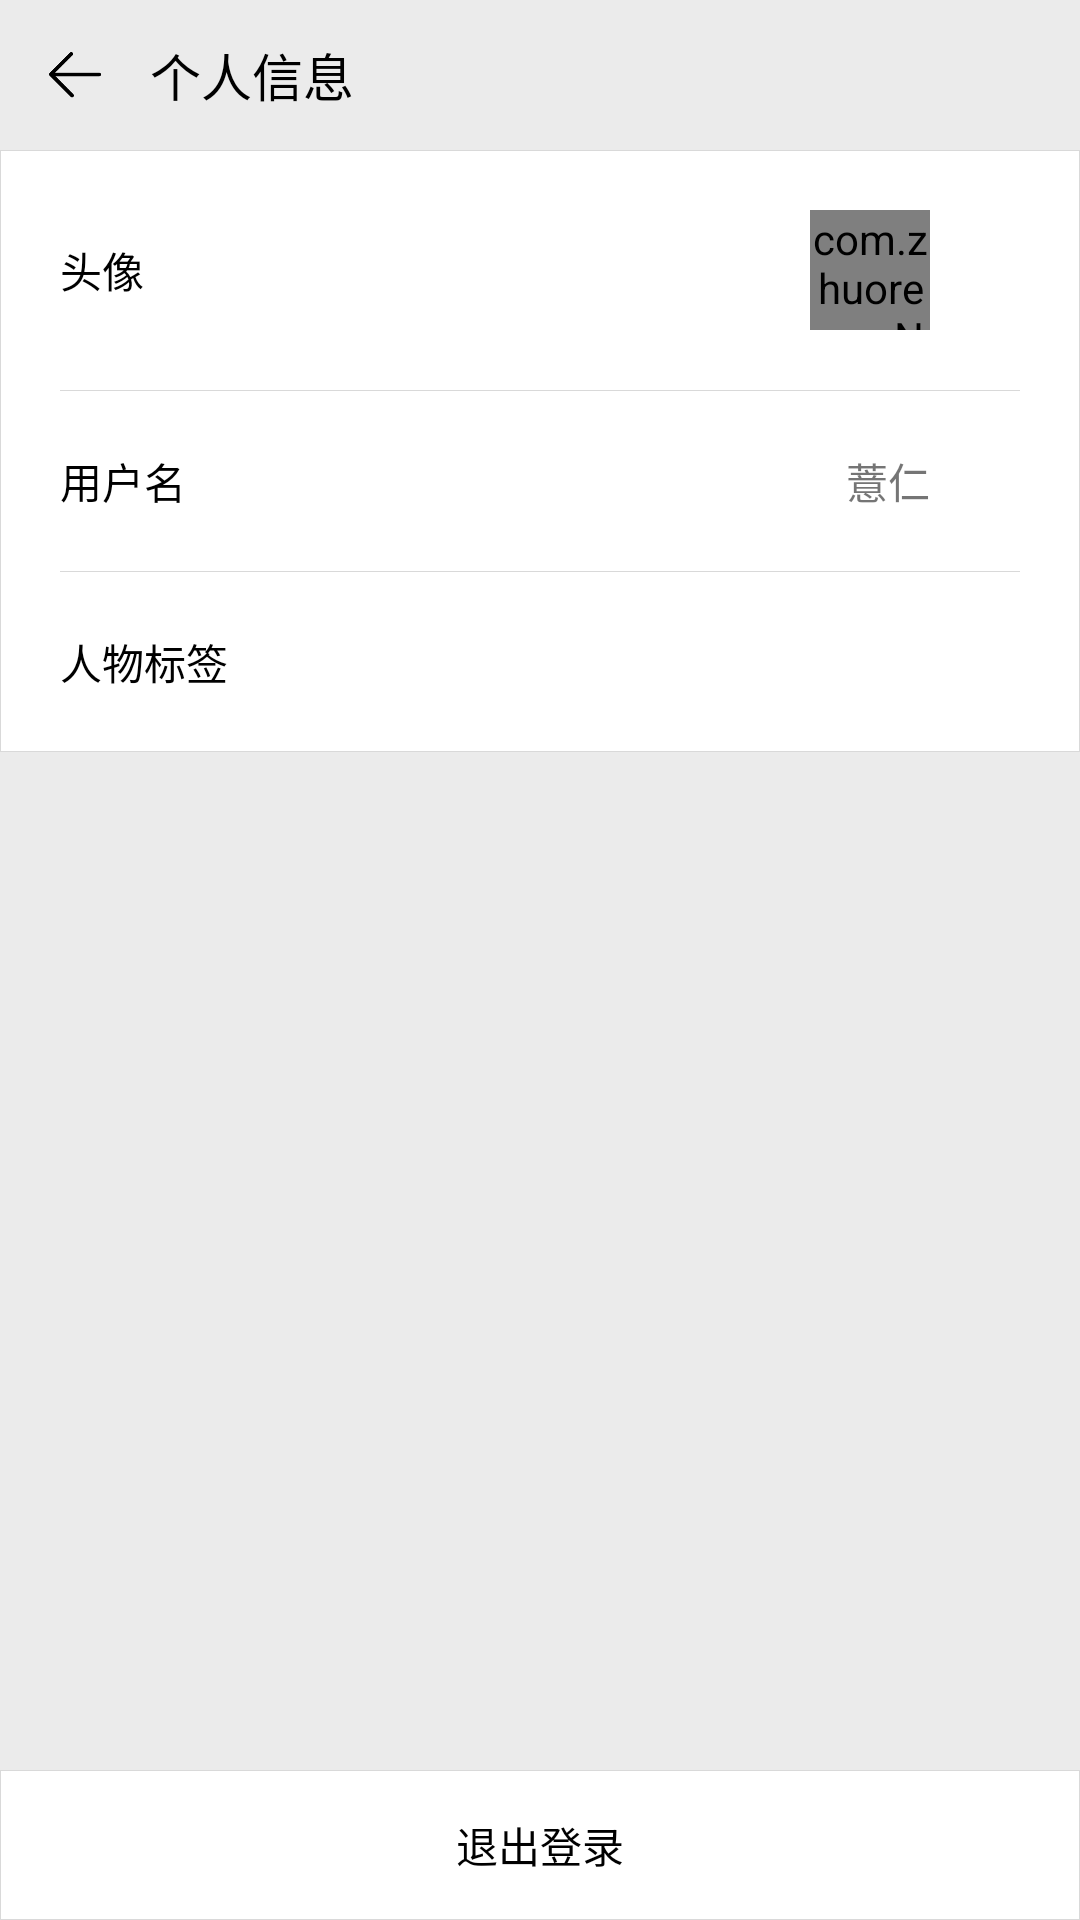

Where to tap for icons on this 1080px×1920px app screen, as (x,y):
arrow back: (75,75)
